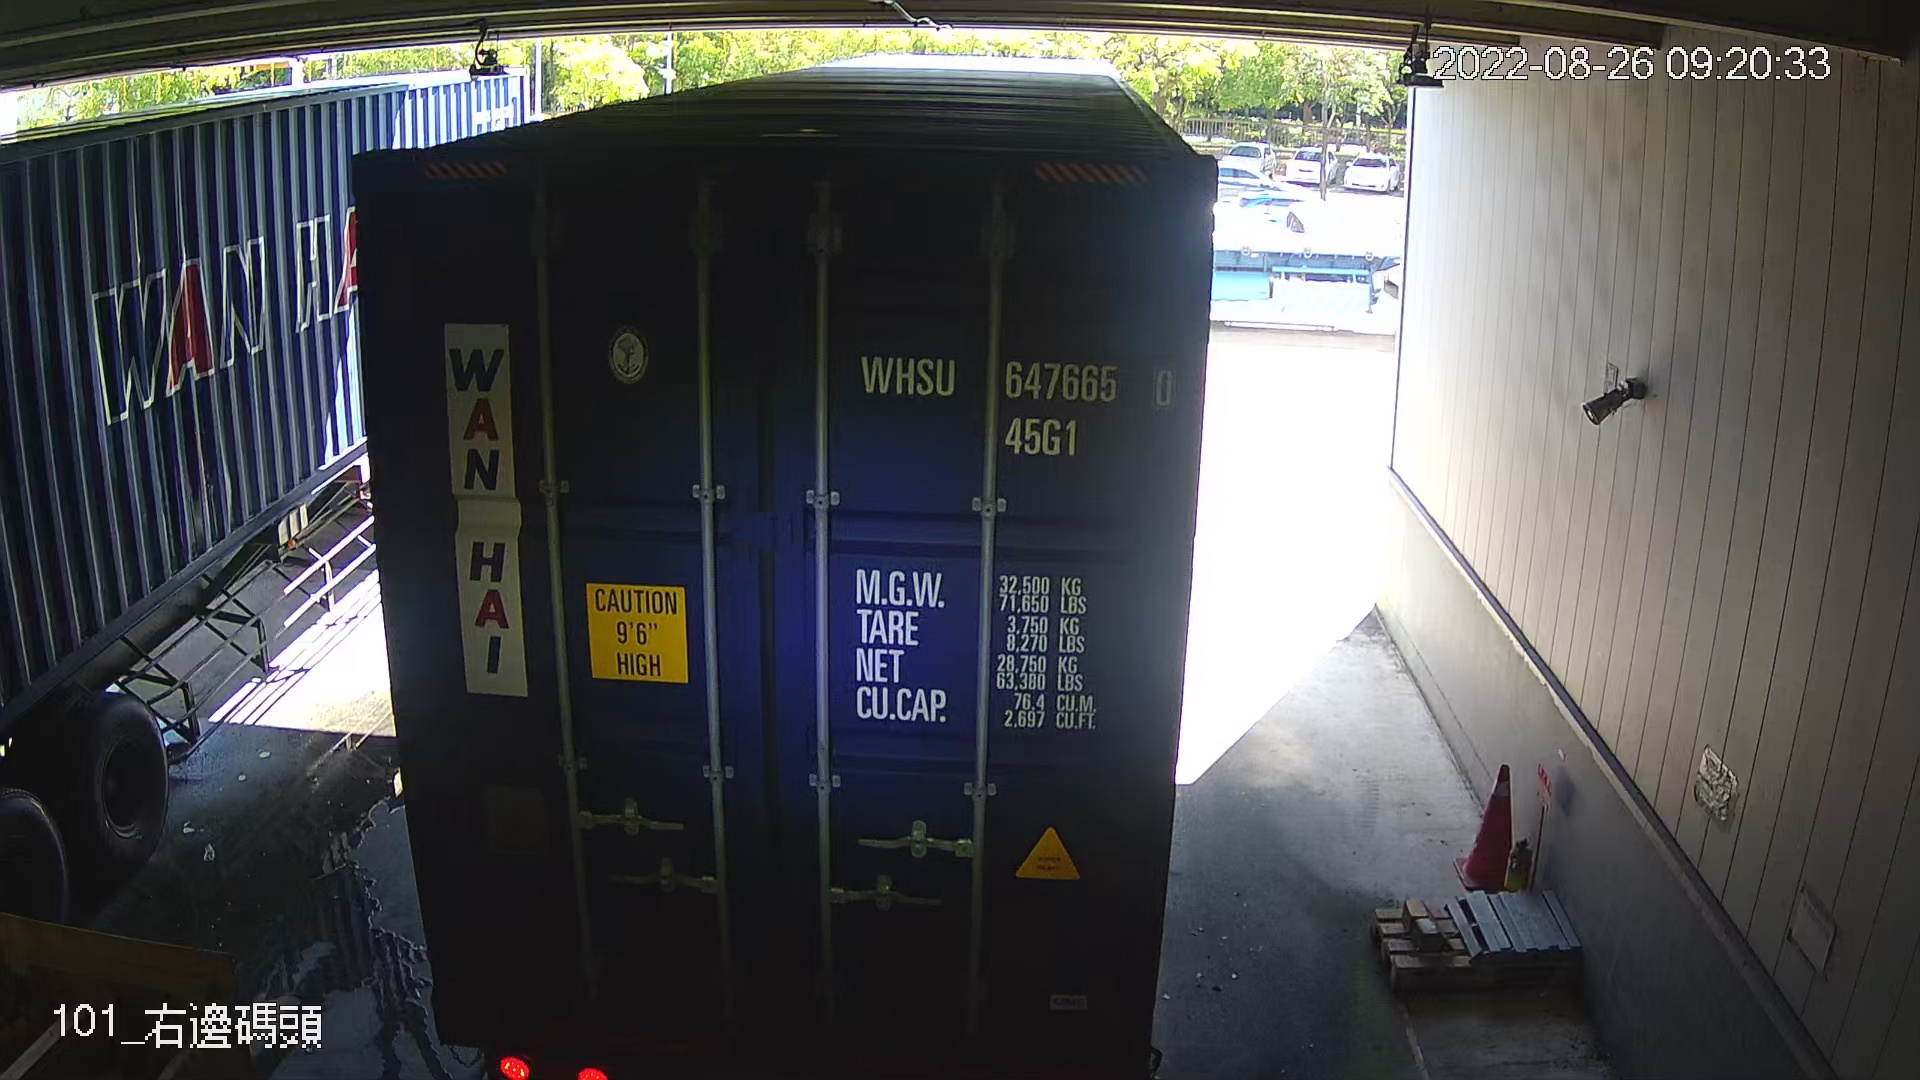container: (844, 335, 1184, 463)
